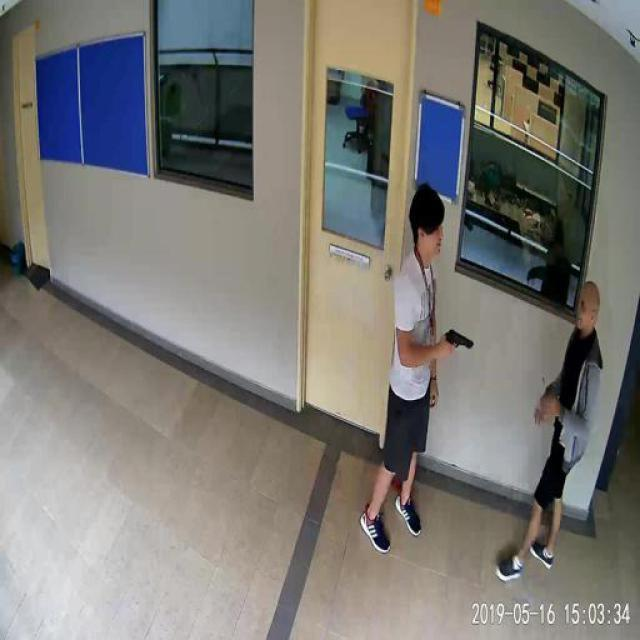weapon: (441, 326, 476, 356)
